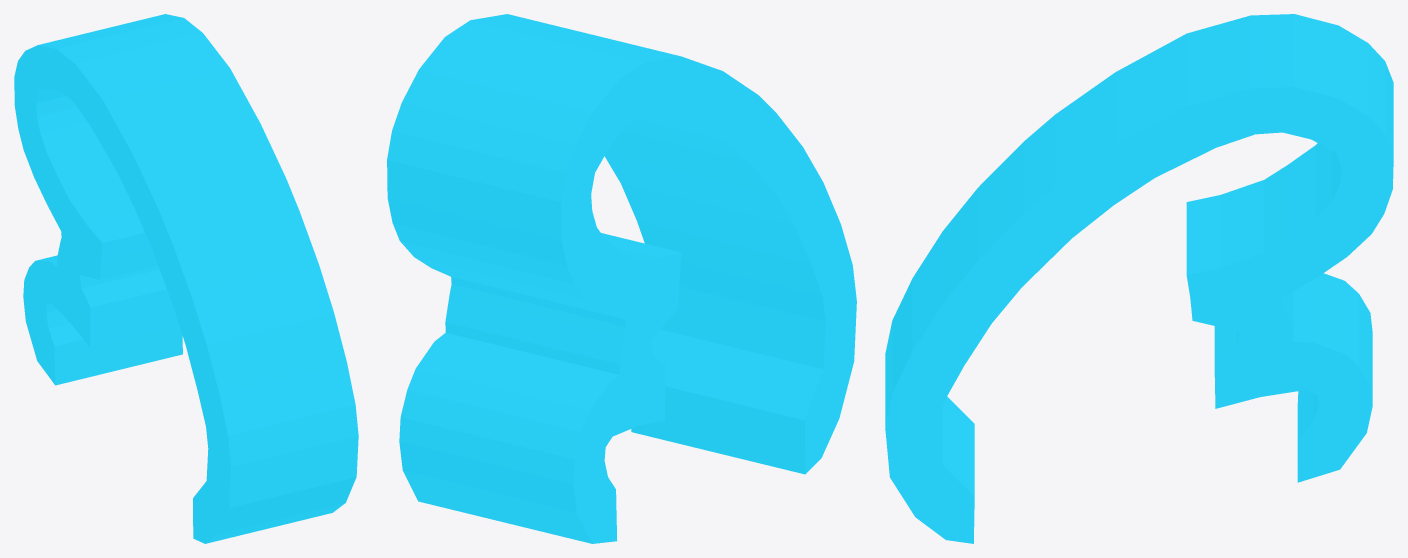
Rendered from glowing_smurfware.glb.
3 renders of one model, left to right at view 1: azimuth 30°, elevation 25°; view 2: azimuth 150°, elevation 25°; view 3: azimuth 270°, elevation 25°, orthographic. The views are drawn at different scales.
Visible parts, largest first — view 1: smurfware_logo; view 2: smurfware_logo; view 3: smurfware_logo.
Part boxes in pixels (x1,y1,x2,y2): smurfware_logo: (14, 14, 358, 543); smurfware_logo: (387, 14, 856, 543); smurfware_logo: (885, 14, 1393, 543).
Bounding box in the file's own units: 0.2652 × 0.7732 × 0.7801.
